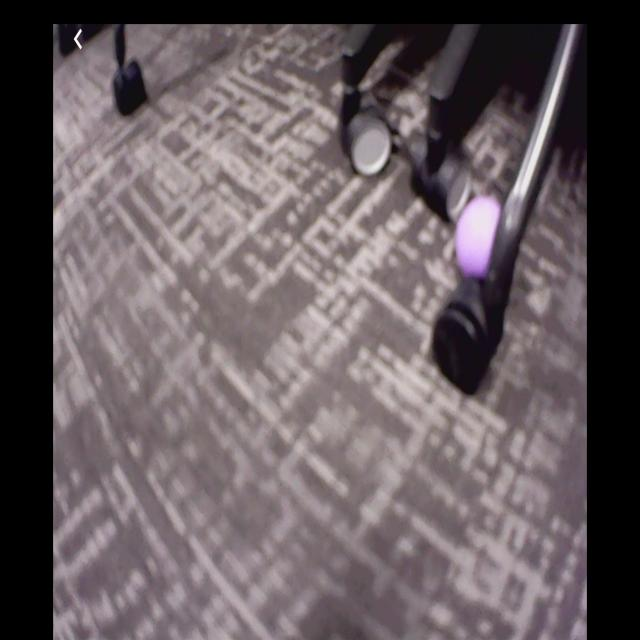ball: (456, 193, 500, 278)
